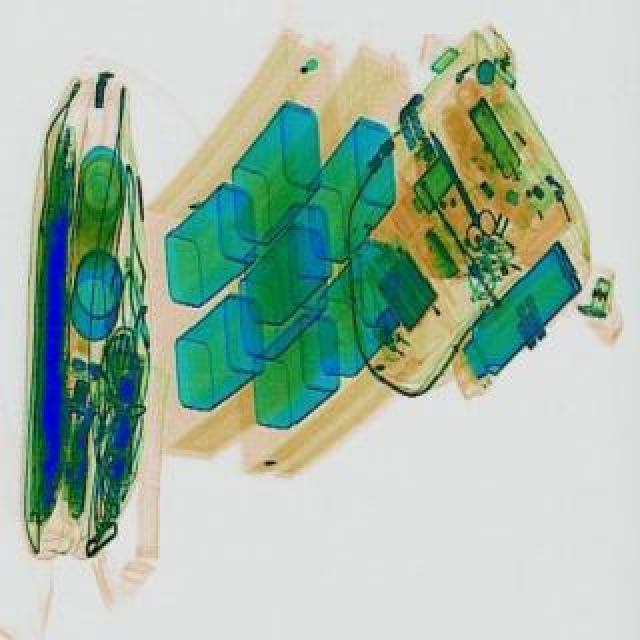pliers: (408, 122, 508, 250)
